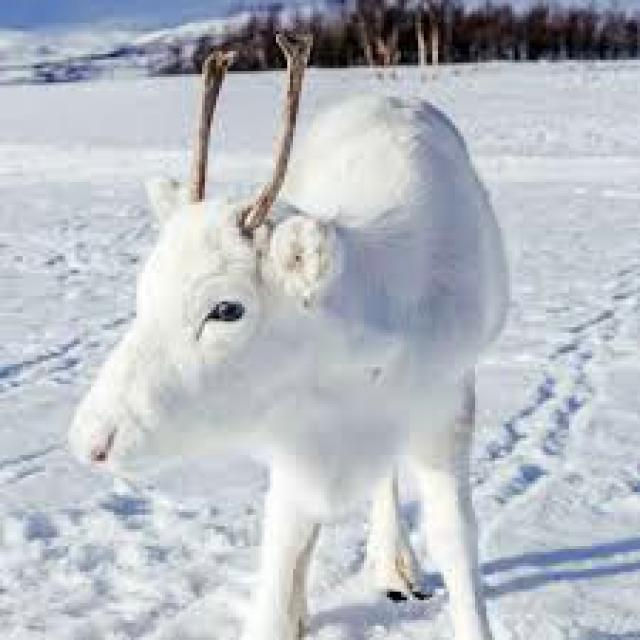reindeer: (71, 34, 506, 637)
